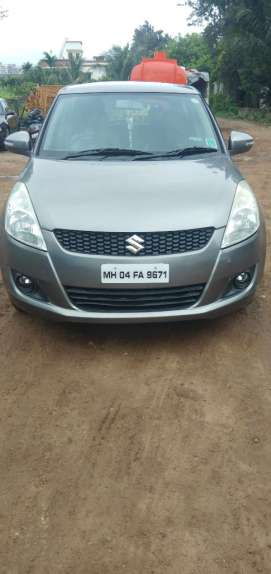nameplate: (102, 264, 169, 283)
